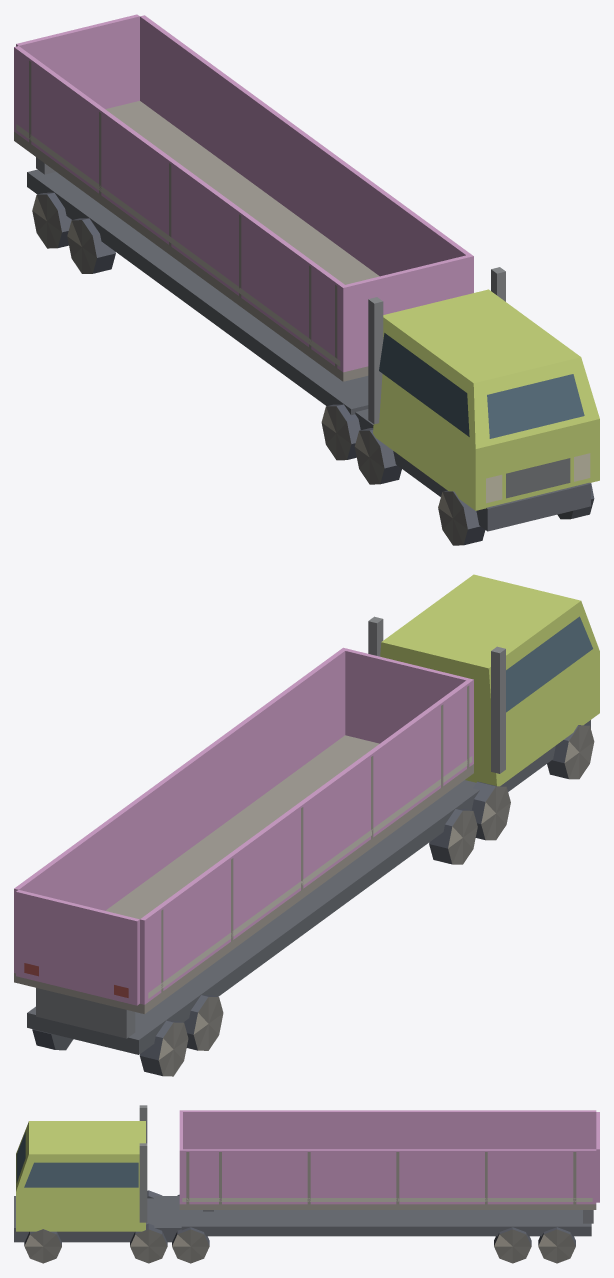
Rendered from grain_hauler_yellpink.glb.
3 renders of one model, top to bottom at view 1: azimuth 30°, elevation 25°; view 2: azimuth 150°, elevation 25°; view 3: azimuth 270°, elevation 25°, orthographic. The views are drawn at different scales.
Visible parts, largest first — view 1: DumpBed_Visual, Tractor, Trailer_Hitch, Tailgate_Pivot, Tire_3_L, Tire_1_L, Tire_0_L, Tire_2_L, Tire_4_L; view 2: DumpBed_Visual, Tractor, Trailer_Hitch, Tailgate_Pivot, Tire_4_L, Tire_2_L, Tire_1_L, Tire_0_L, Tire_3_L; view 3: DumpBed_Visual, Tractor, Trailer_Hitch, Tire_1_R, Tire_2_R, Tire_3_R, Tire_4_R, Tire_0_R, Tailgate_Pivot.
Boxes of the visible parts, x1,y1,x2,y2 form: DumpBed_Visual: [14, 15, 473, 381]; Tractor: [355, 267, 599, 531]; Trailer_Hitch: [27, 157, 368, 415]; Tailgate_Pivot: [16, 14, 139, 108]; Tire_3_L: [67, 218, 115, 273]; Tire_1_L: [354, 428, 401, 484]; Tire_0_L: [438, 490, 485, 545]; Tire_2_L: [321, 404, 360, 460]; Tire_4_L: [32, 192, 71, 248]; DumpBed_Visual: [14, 647, 473, 1014]; Tractor: [368, 574, 599, 810]; Trailer_Hitch: [27, 797, 462, 1054]; Tailgate_Pivot: [16, 890, 139, 1005]; Tire_4_L: [139, 1020, 188, 1076]; Tire_2_L: [429, 808, 477, 864]; Tire_1_L: [472, 781, 510, 840]; Tire_0_L: [547, 724, 594, 779]; Tire_3_L: [183, 995, 223, 1050]; DumpBed_Visual: [179, 1110, 596, 1209]; Tractor: [14, 1105, 181, 1242]; Trailer_Hitch: [181, 1210, 593, 1236]; Tire_1_R: [130, 1223, 167, 1263]; Tire_2_R: [172, 1227, 209, 1263]; Tire_3_R: [494, 1227, 531, 1263]; Tire_4_R: [538, 1227, 575, 1263]; Tire_0_R: [24, 1229, 61, 1263]; Tailgate_Pivot: [596, 1112, 599, 1202].
Size of the model in its own units: 2.51 by 3.39 by 15.21.
